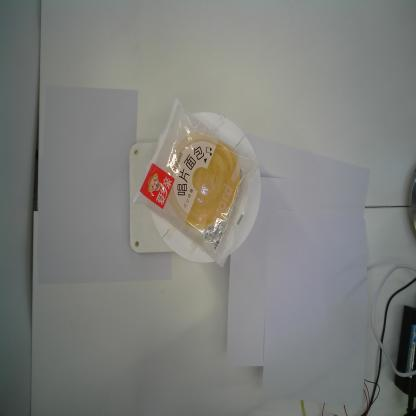Dessert: (128, 96, 263, 273)
